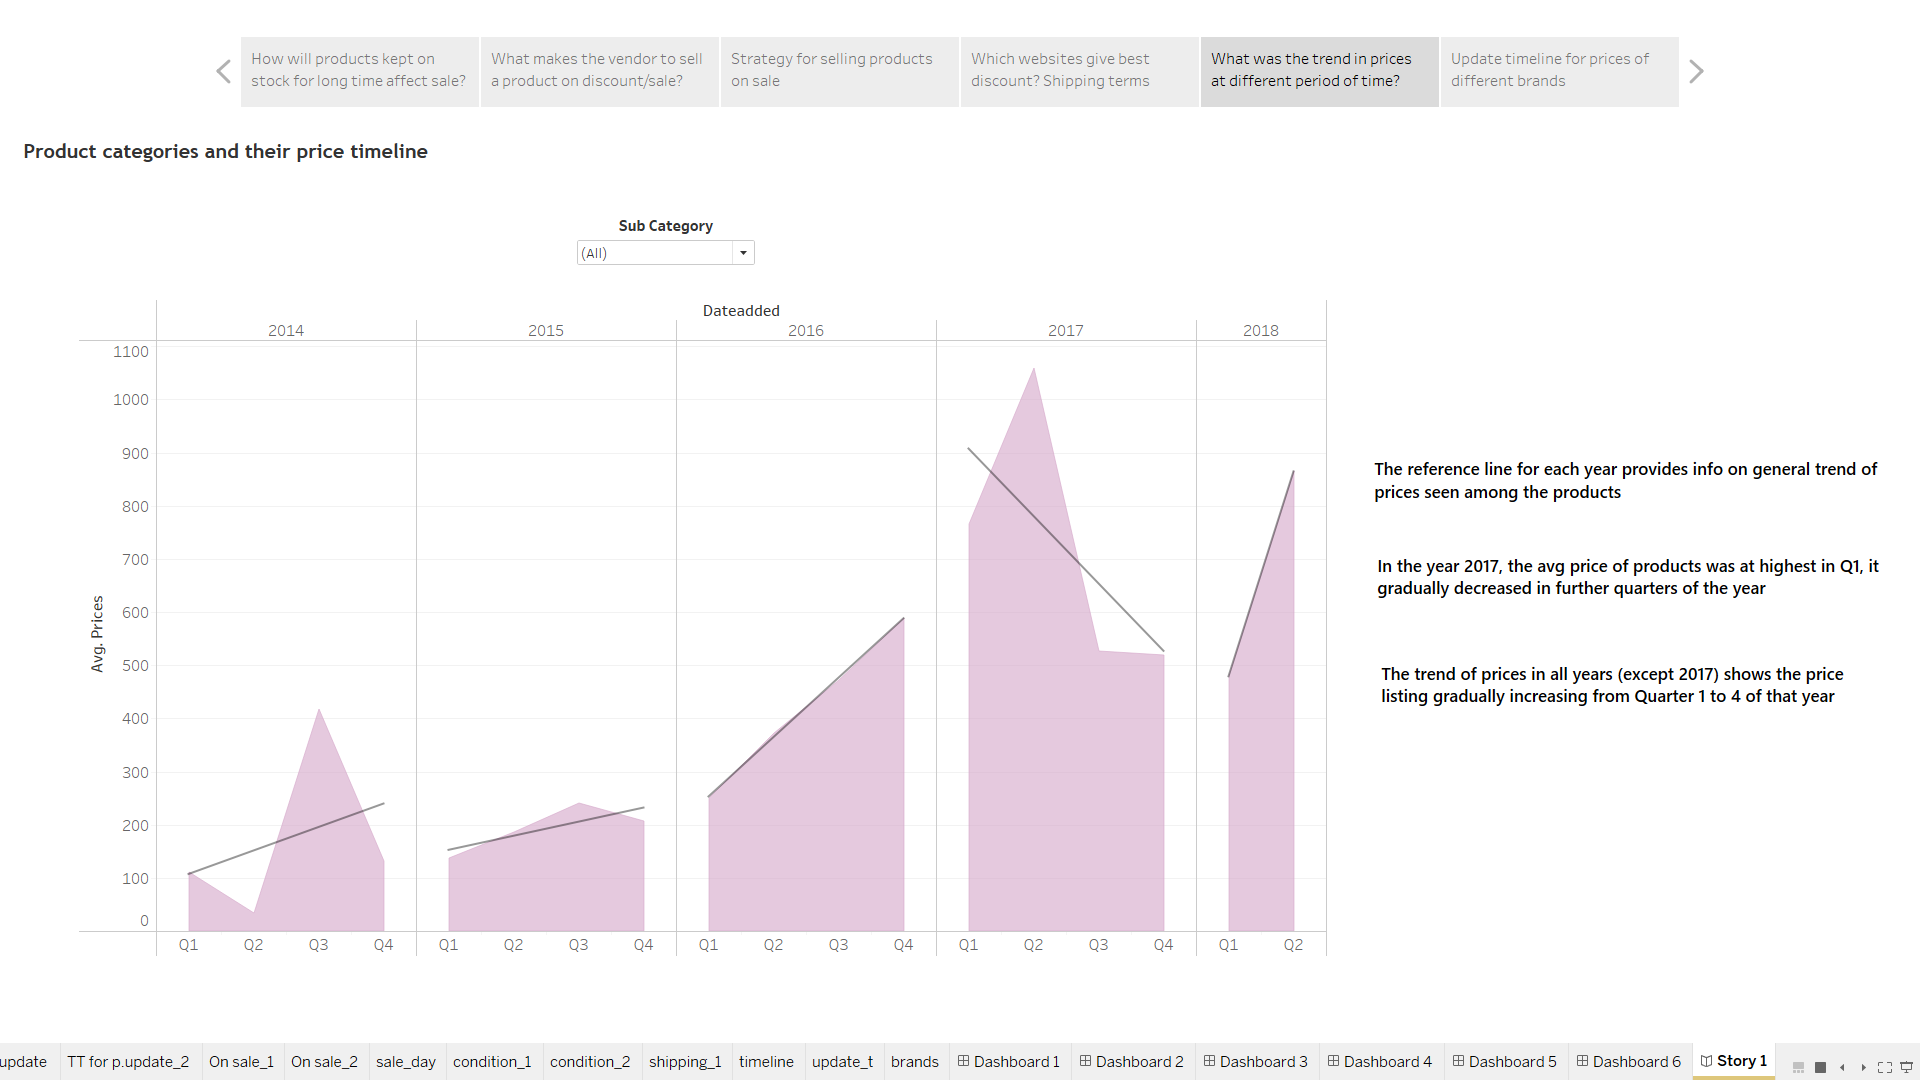

Layout of this report page (visuals, bound fields, positions):
{"tool":"tableau","page":{"name":"Dashboard 5","canvas":[1000,1000],"units":"permille","ordinal":4},"visuals":[{"type":"title","box":[4.8,9.3,990.3,37.2]},{"type":"filter","title":"timeline","param":"[federated.1vl33a51myhwji18jspvm1r1us8n].[none:sub category 1:nk]","box":[297.5,96.4,96.6,61.6]},{"type":"worksheet","title":"timeline","mark":"Area","rows":["prices_amountmax"],"cols":["dateadded","dateadded"],"box":[37.4,190.5,655.4,723.6]},{"type":"text","box":[715.8,305.5,269.2,167.2]},{"type":"text","box":[717.6,369.3,275.8,252]},{"type":"text","box":[719.4,513.4,272.8,202.1]}]}

Visuals, with their boxes on the dashboard's canvas, which has no fixed pixel size, in thousandths of its width and height (x1, y1, x2, y2). These are canvas units, not pixel positions in the 1920x1080 screenshot, which may show the page scaled, cropped or inside an application window:
title: (5,9,995,46)
"timeline" filter: (298,96,394,158)
"timeline" worksheet (Area marks): (37,190,693,914)
text: (716,306,985,473)
text: (718,369,993,621)
text: (719,513,992,716)
